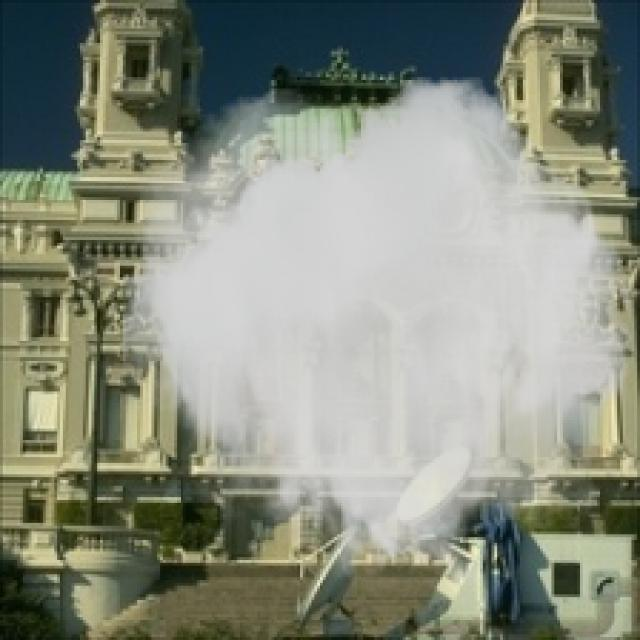Smoke: (122, 77, 638, 594)
